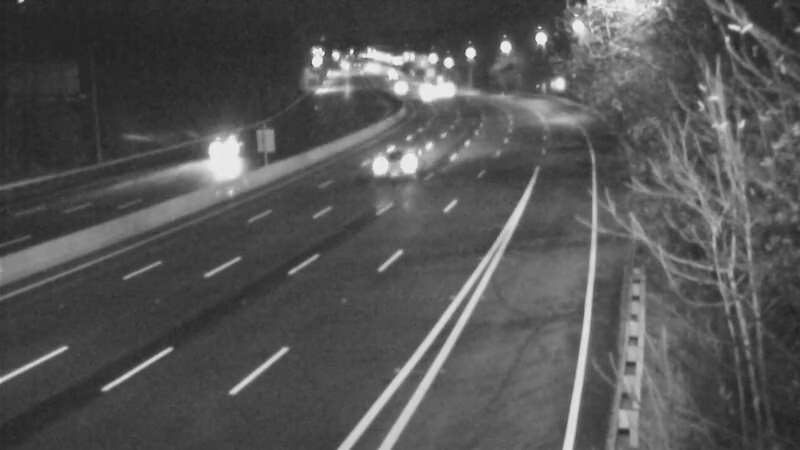vehicle: (358, 122, 438, 202), (371, 60, 421, 110), (398, 64, 448, 114), (423, 63, 473, 113), (403, 68, 453, 118), (195, 122, 245, 172)
